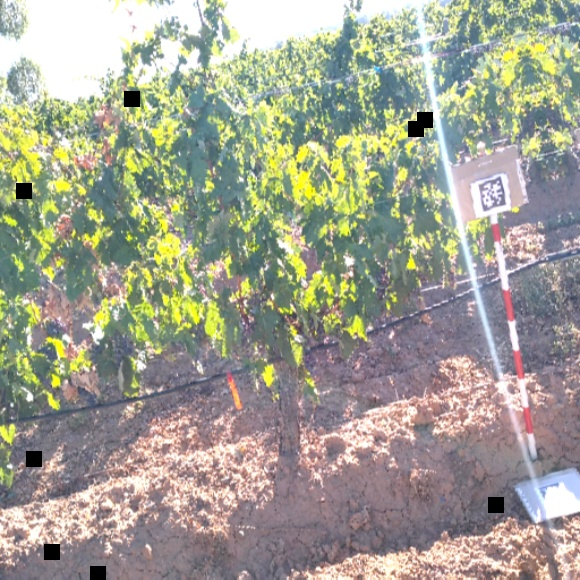QR: (475, 175, 510, 213)
